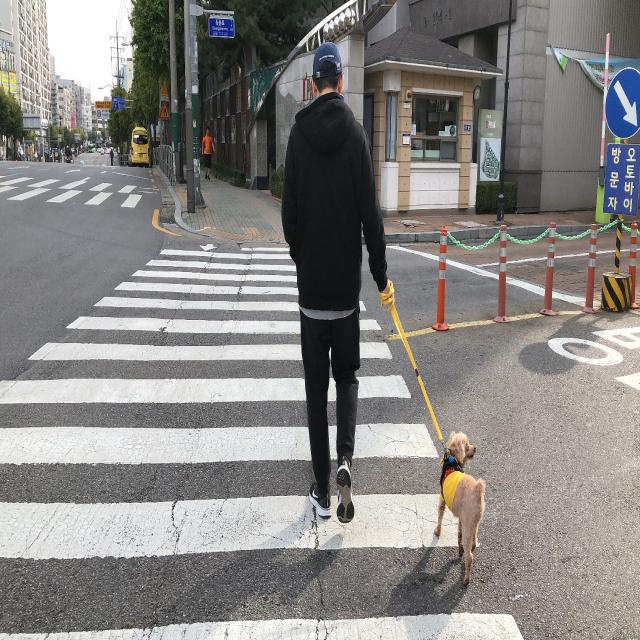횡단보도: (0, 240, 523, 640), (0, 165, 162, 220)
